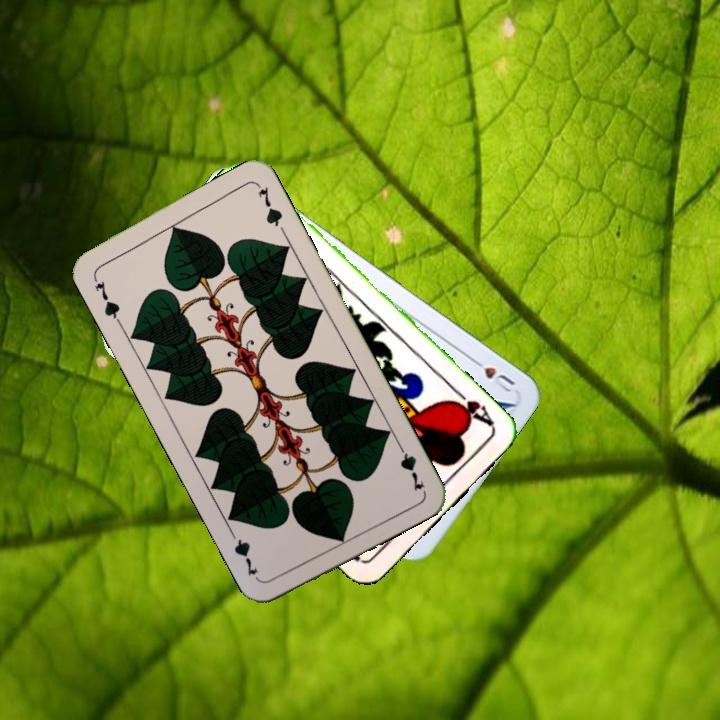G7: (392, 437, 427, 494), (89, 271, 124, 326)
HA: (444, 384, 497, 430)
HU: (466, 353, 518, 397)
